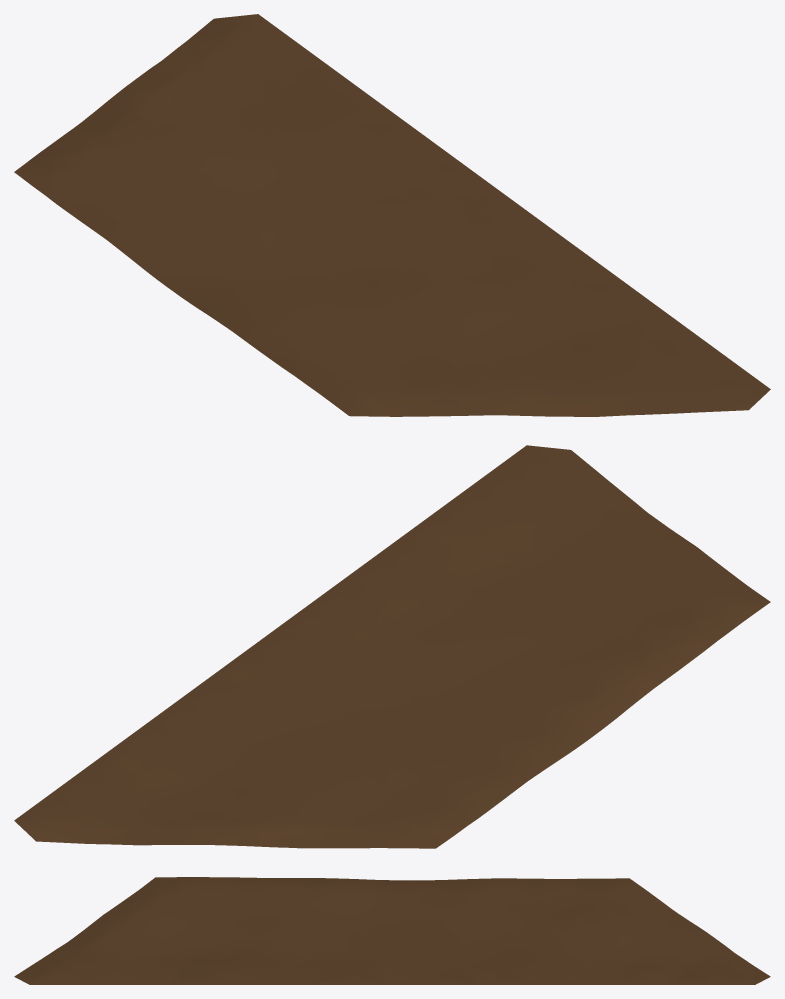
Rendered from forest_forest_edge_e4.glb.
The picture shows the model from 3 angles, top to bottom: view 1: azimuth 30°, elevation 25°; view 2: azimuth 150°, elevation 25°; view 3: azimuth 270°, elevation 25°; orthographic projection. The views are drawn at different scales.
Visible parts, largest first — view 1: forest_forest_edge_e4_lod0; view 2: forest_forest_edge_e4_lod0; view 3: forest_forest_edge_e4_lod0.
Part boxes in pixels (x1,y1,x2,y2): forest_forest_edge_e4_lod0: (14,14,770,416); forest_forest_edge_e4_lod0: (14,445,770,848); forest_forest_edge_e4_lod0: (14,877,770,984).
Size of what is drawn, in the model's own units: 6 by 0.2538 by 16.69.
